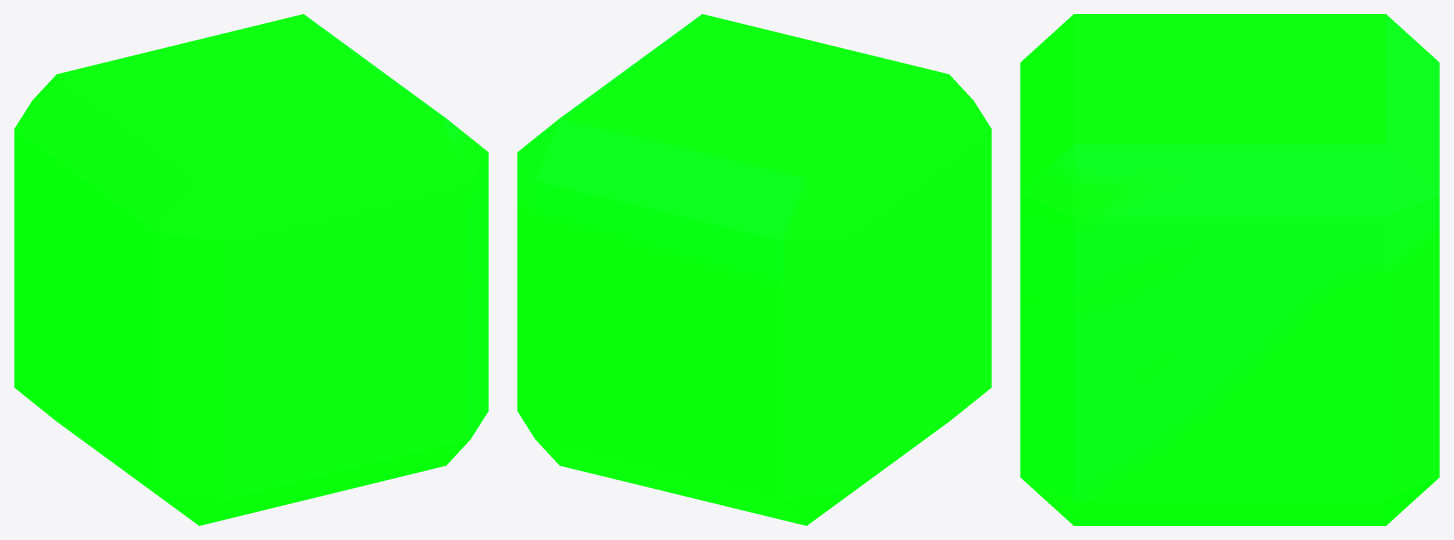
The model's file is greenCube.glb.
3 renders of one model, left to right at view 1: azimuth 30°, elevation 25°; view 2: azimuth 150°, elevation 25°; view 3: azimuth 270°, elevation 25°, orthographic. The views are drawn at different scales.
Visible parts, largest first — view 1: Cube.001; view 2: Cube.001; view 3: Cube.001.
Part boxes in pixels (x1,y1,x2,y2): Cube.001: (14,14,488,525); Cube.001: (517,14,991,525); Cube.001: (1020,14,1439,525).
Size of the model in its own units: 2 by 2 by 2.
Materials: 1 (1 with a texture image).
